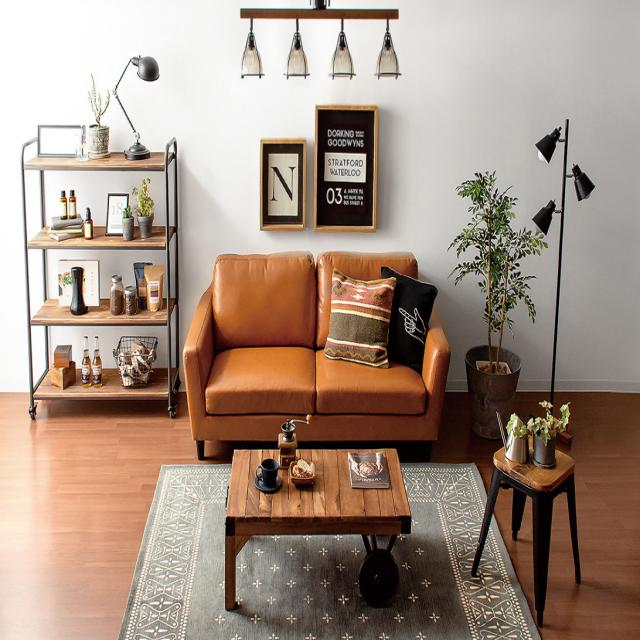vintage desk: (226, 446, 411, 606), (469, 433, 583, 627)
vintage shelf: (22, 132, 186, 420)
vintage sofa: (182, 252, 446, 448)
